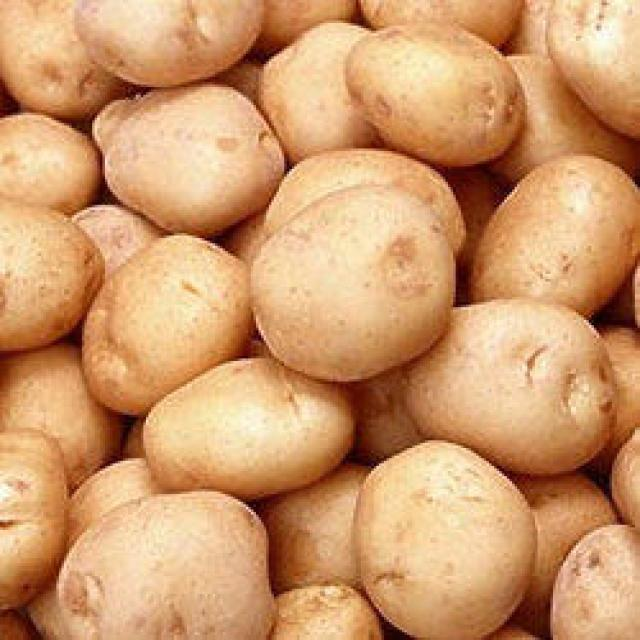potato: (249, 181, 454, 378), (354, 439, 541, 640), (408, 301, 623, 475), (53, 490, 273, 640), (83, 234, 254, 418), (134, 360, 352, 501), (469, 155, 640, 324), (91, 91, 283, 232), (341, 21, 526, 165), (1, 195, 103, 356)
